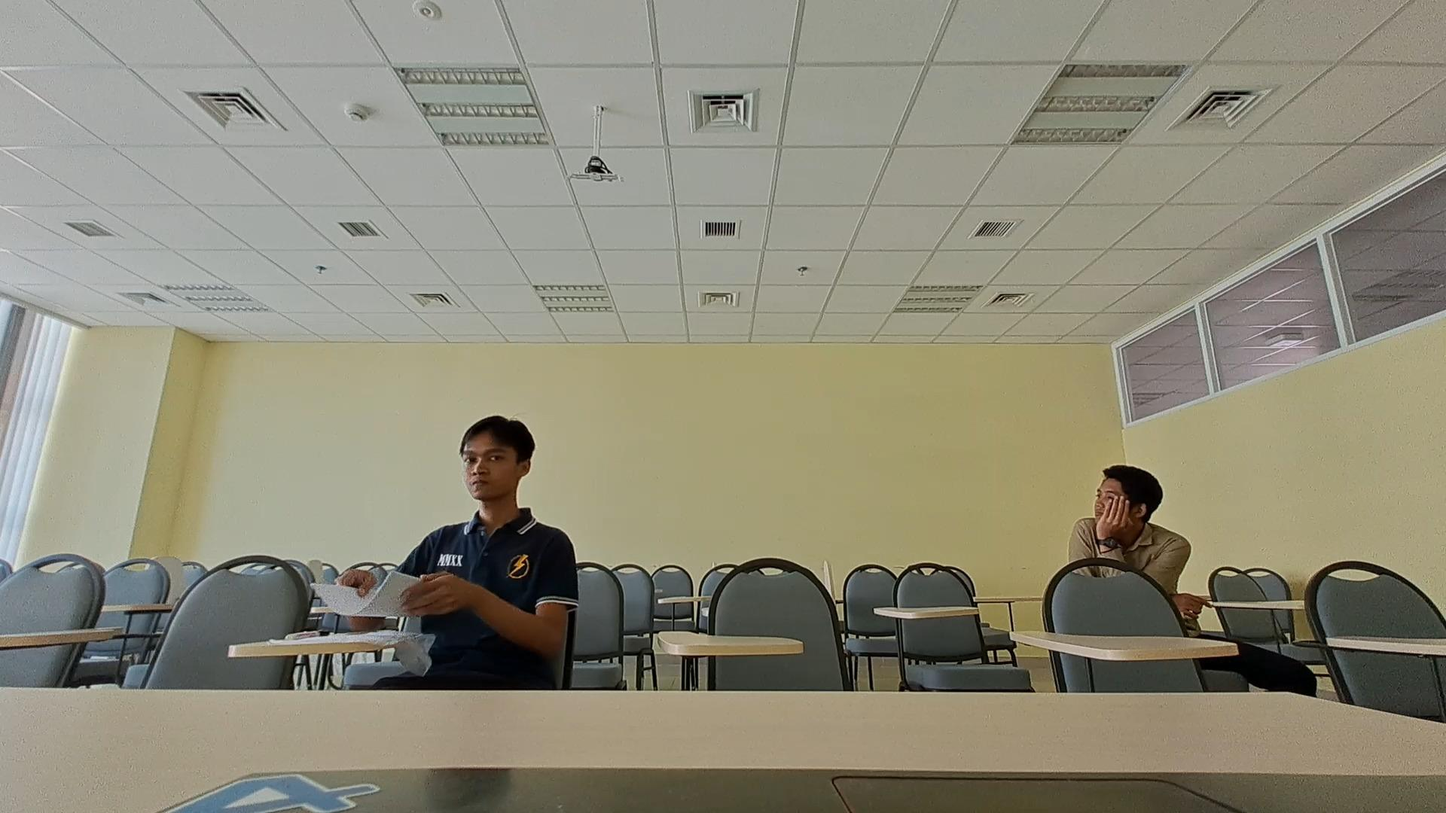study: (322, 414, 569, 689), (1054, 459, 1190, 632)
